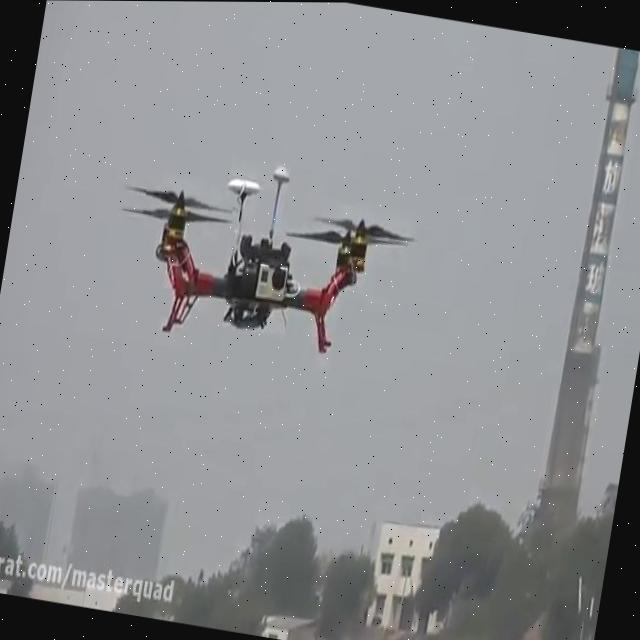drone: (96, 137, 426, 374)
